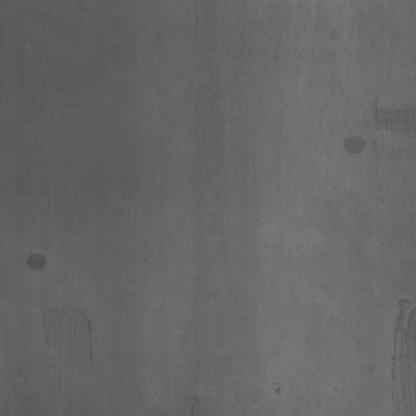oil_spot: (341, 132, 367, 162), (24, 246, 49, 274)
water_spot: (379, 280, 416, 408), (44, 292, 98, 366), (366, 94, 416, 140)
